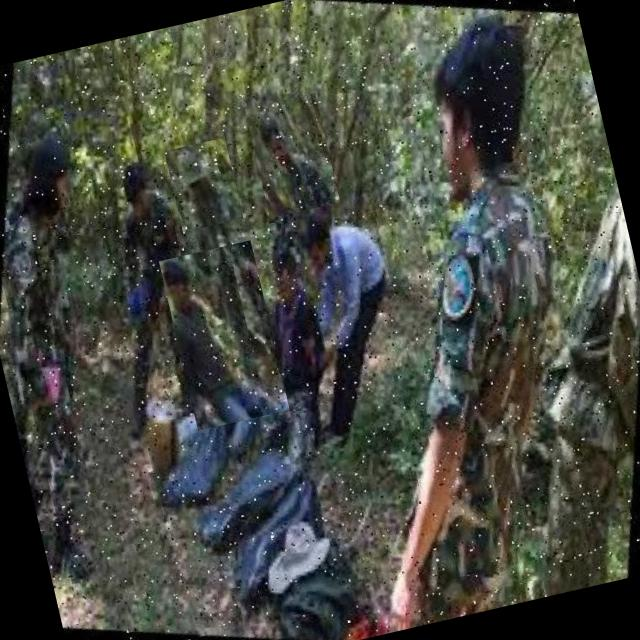ranger: (350, 9, 628, 564)
